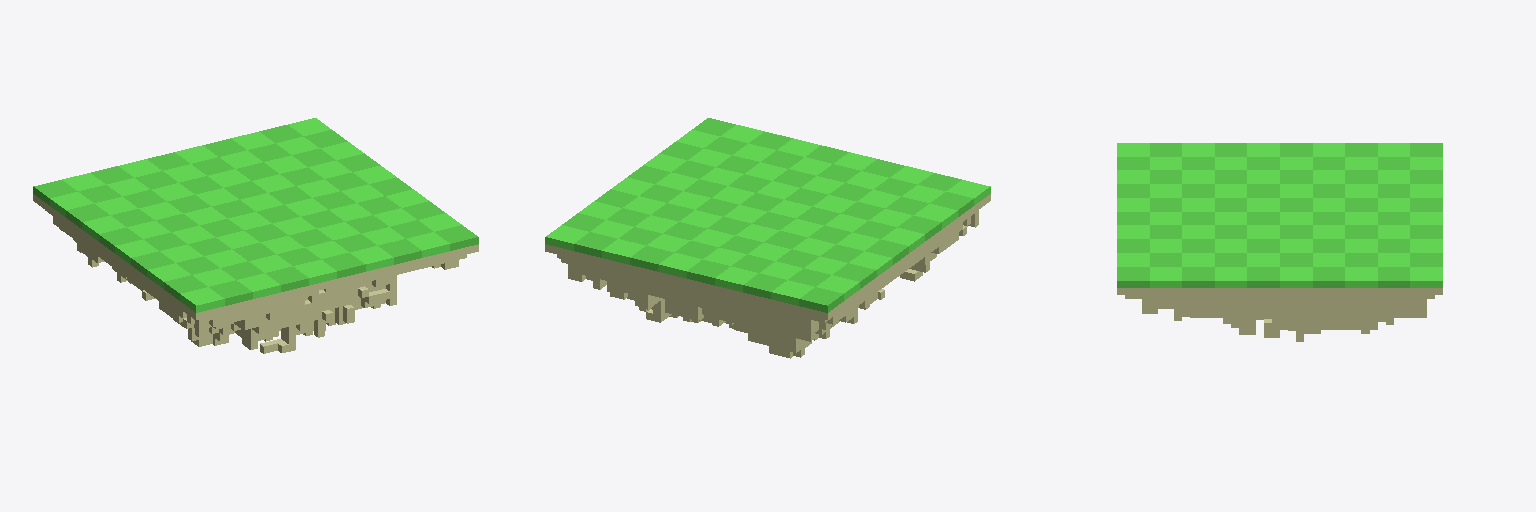
The picture shows the model from 3 angles: view 1: azimuth 30°, elevation 25°; view 2: azimuth 150°, elevation 25°; view 3: azimuth 270°, elevation 25°; orthographic projection.
Visible parts, largest first — view 1: object 1; view 2: object 1; view 3: object 1.
Part boxes in pixels (x1,y1,x2,y2): object 1: (33,118,478,353); object 1: (545,118,990,358); object 1: (1117,143,1442,341).
Bounding box in the file's own units: 4 × 1.2 × 4.
1 materials, 1 textured.